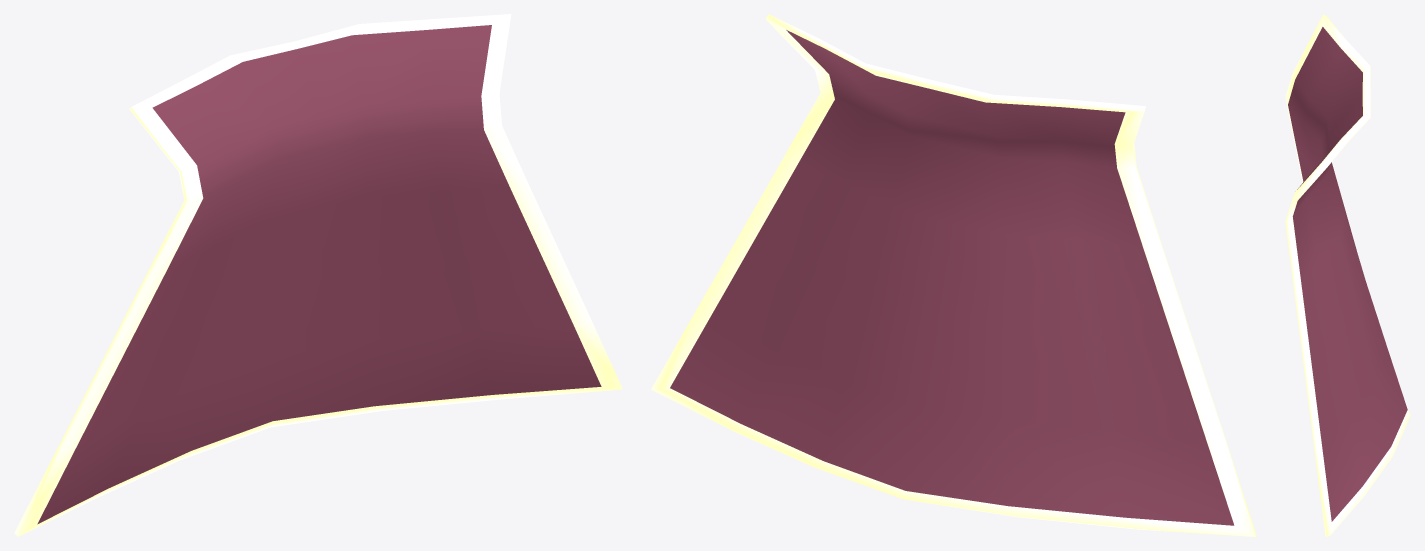
File: ExplosionWitch_cloak.fbx
3 views of the same model, side by side, from view 1: azimuth 30°, elevation 25°; view 2: azimuth 150°, elevation 25°; view 3: azimuth 270°, elevation 25° (orthographic). The views are drawn at different scales.
Visible parts, largest first — view 1: ExplosionCloak; view 2: ExplosionCloak; view 3: ExplosionCloak.
Part boxes in pixels (<box>): ExplosionCloak: <box>14,14,622,536</box>; ExplosionCloak: <box>651,14,1256,536</box>; ExplosionCloak: <box>1285,14,1410,536</box>.
Size of the model in its own units: 181 by 116 by 39.9.
